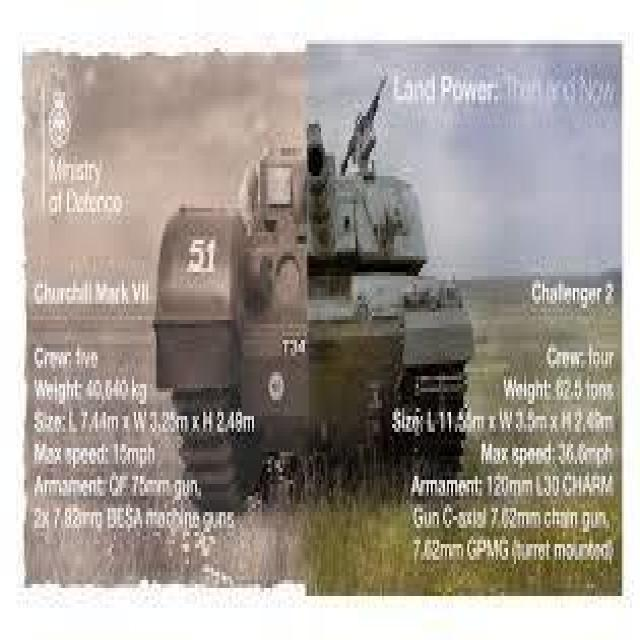Tanks: (123, 74, 525, 538)
